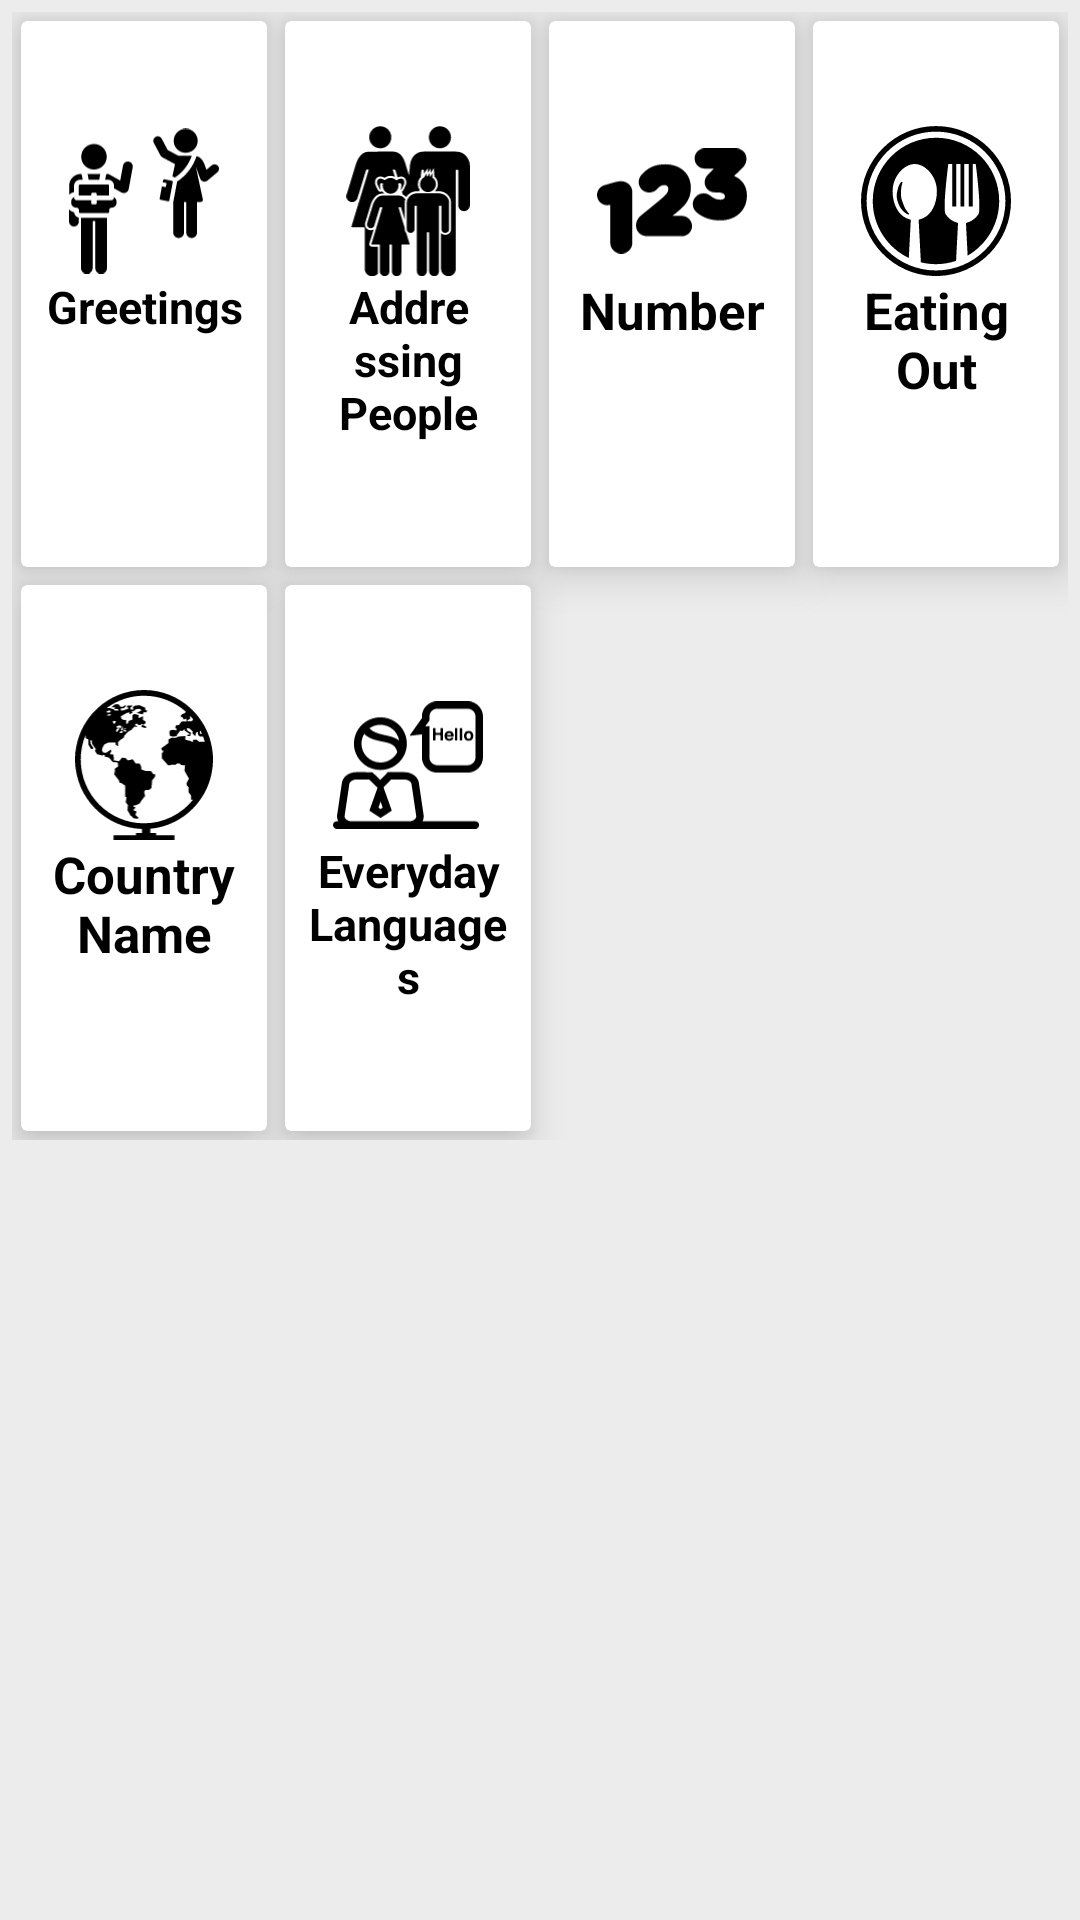

Screen size 1080 × 1920. Icon name, then its box in pixels as (x1, y1, x2, y2):
globe: (75, 690, 213, 840)
